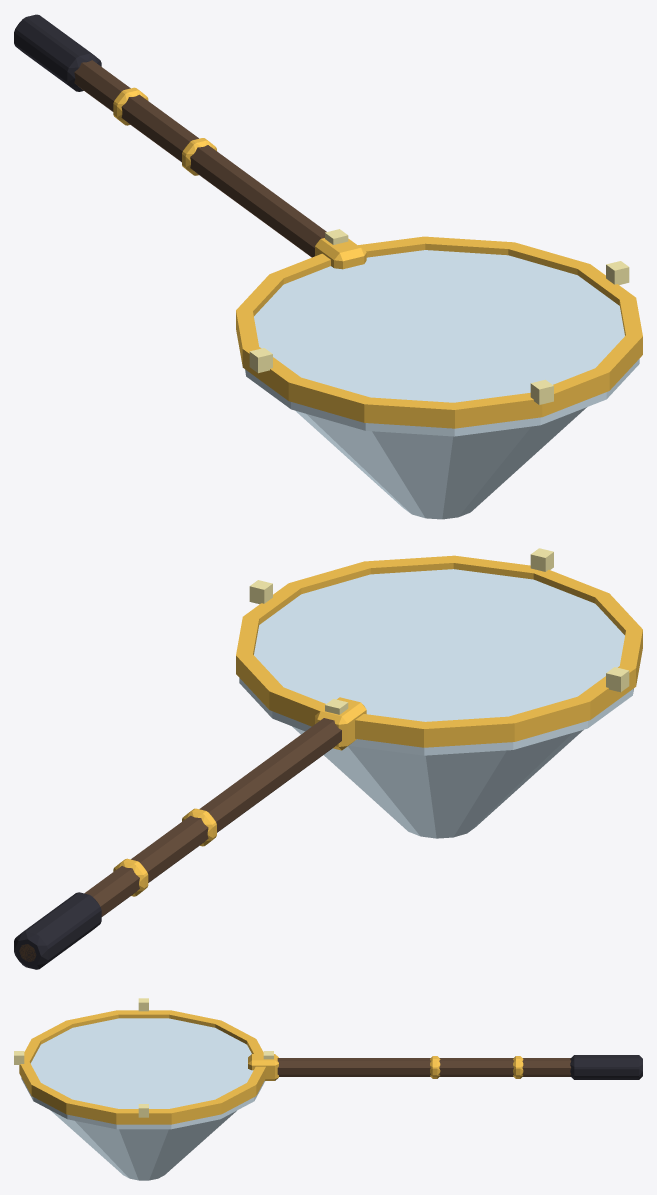
The model's file is CatCafe_Item_Net_L3.fbx.
3 renders of one model, top to bottom at view 1: azimuth 30°, elevation 25°; view 2: azimuth 150°, elevation 25°; view 3: azimuth 270°, elevation 25°, orthographic. The views are drawn at different scales.
Visible parts, largest first — view 1: CatCafe_Item_Net_L3_Bag, CatCafe_Item_Net_L3_Handle; view 2: CatCafe_Item_Net_L3_Bag, CatCafe_Item_Net_L3_Handle; view 3: CatCafe_Item_Net_L3_Bag, CatCafe_Item_Net_L3_Handle.
Boxes of the visible parts, x1,y1,x2,y2 form: CatCafe_Item_Net_L3_Bag: [245, 250, 639, 519]; CatCafe_Item_Net_L3_Handle: [14, 14, 642, 428]; CatCafe_Item_Net_L3_Bag: [239, 569, 633, 838]; CatCafe_Item_Net_L3_Handle: [14, 548, 642, 969]; CatCafe_Item_Net_L3_Bag: [21, 1018, 265, 1180]; CatCafe_Item_Net_L3_Handle: [14, 998, 642, 1124].
Size of the model in its own units: 2.5 by 1.25 by 6.05.
1 material, 1 textured.
